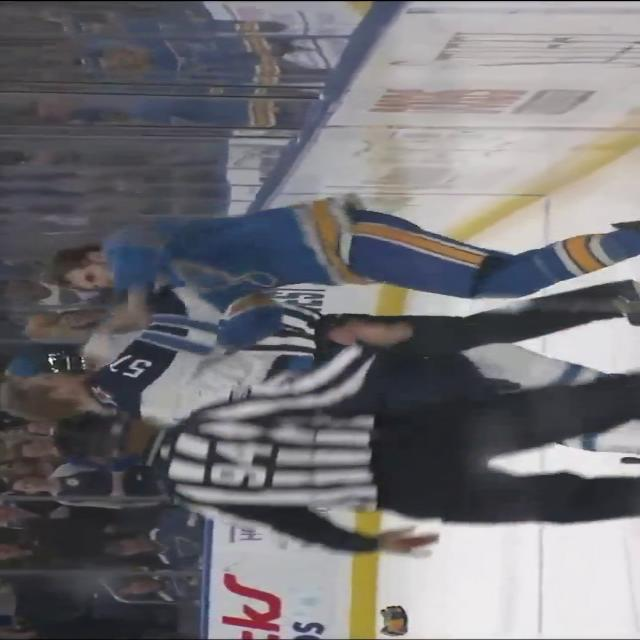NonViolence: (54, 372, 616, 530)
Violence: (16, 196, 564, 428)
